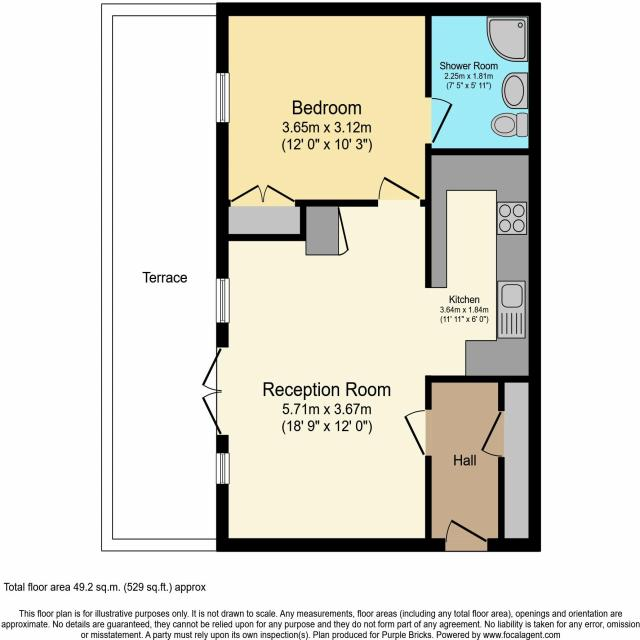DOOR: (445, 517, 487, 552), (425, 97, 453, 144), (378, 176, 420, 207), (404, 410, 432, 456), (480, 411, 506, 459)
DOUBLE DOOR: (197, 345, 228, 436)
ROOM: (201, 148, 541, 552), (216, 2, 453, 241)
WINDOW: (216, 73, 230, 122), (216, 279, 230, 322), (216, 453, 230, 485)
